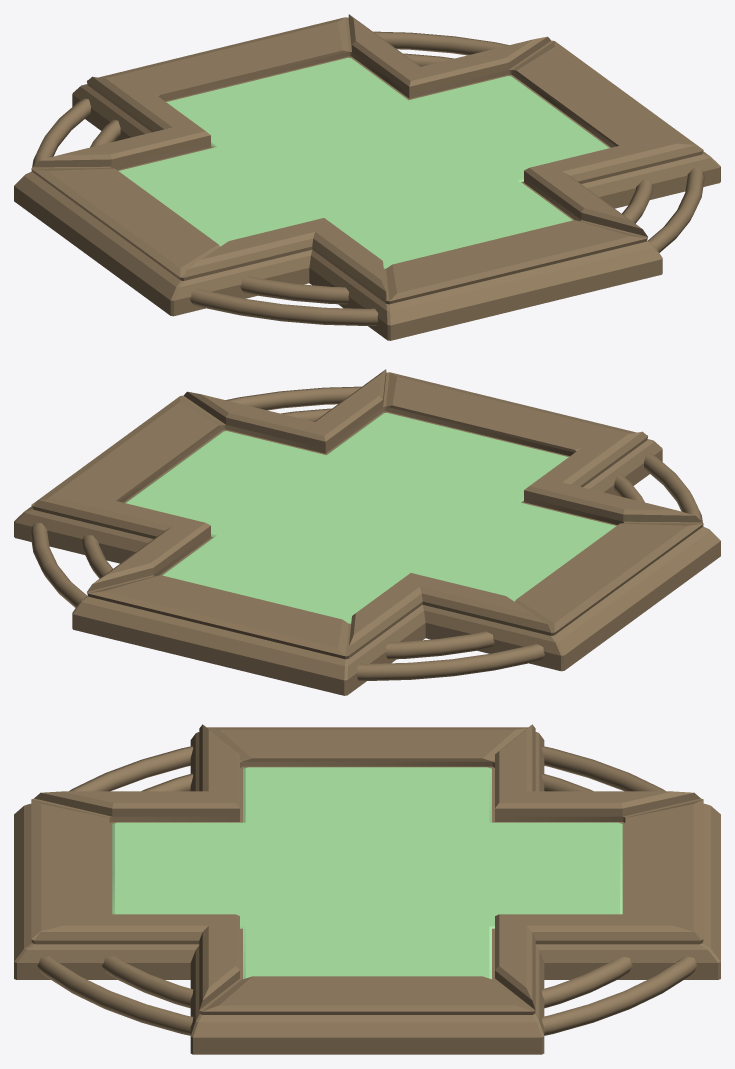
File: SM_CrossTable.fbx
The picture shows the model from 3 angles, top to bottom: view 1: azimuth 30°, elevation 25°; view 2: azimuth 150°, elevation 25°; view 3: azimuth 270°, elevation 25°; orthographic projection. The views are drawn at different scales.
Visible parts, largest first — view 1: Plane.001; view 2: Plane.001; view 3: Plane.001.
Part boxes in pixels (x1,y1,x2,y2): Plane.001: (14, 14, 720, 340); Plane.001: (14, 369, 720, 695); Plane.001: (14, 724, 720, 1054).
Bounding box in the file's own units: 217 × 15.84 × 217.
